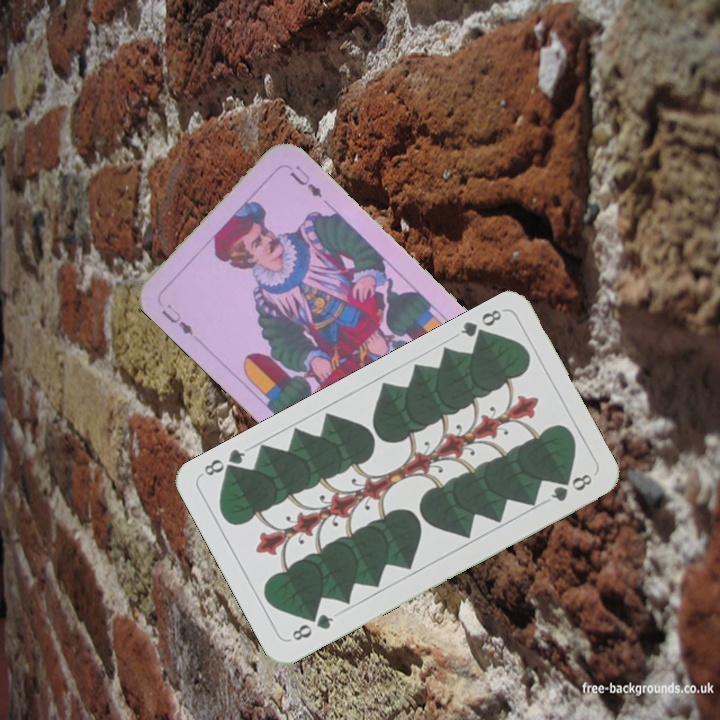EU: (157, 299, 196, 338)
G8: (456, 305, 505, 345), (285, 609, 336, 644)
